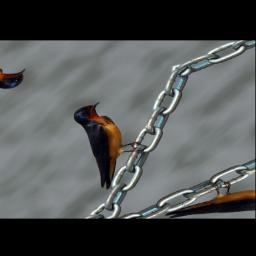Swallow: (25, 98, 176, 192)
